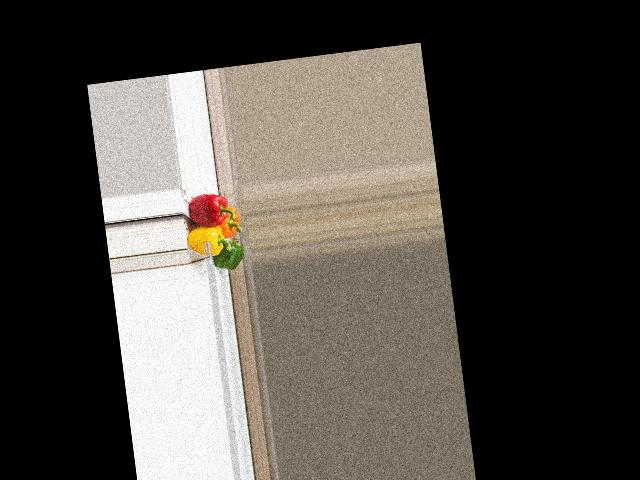bell_pepper: (216, 204, 243, 240)
